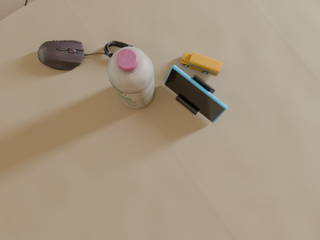bottle: (107, 47, 155, 109)
mouse: (38, 40, 89, 70)
phone: (165, 65, 227, 122)
toy_car: (181, 52, 222, 76)
